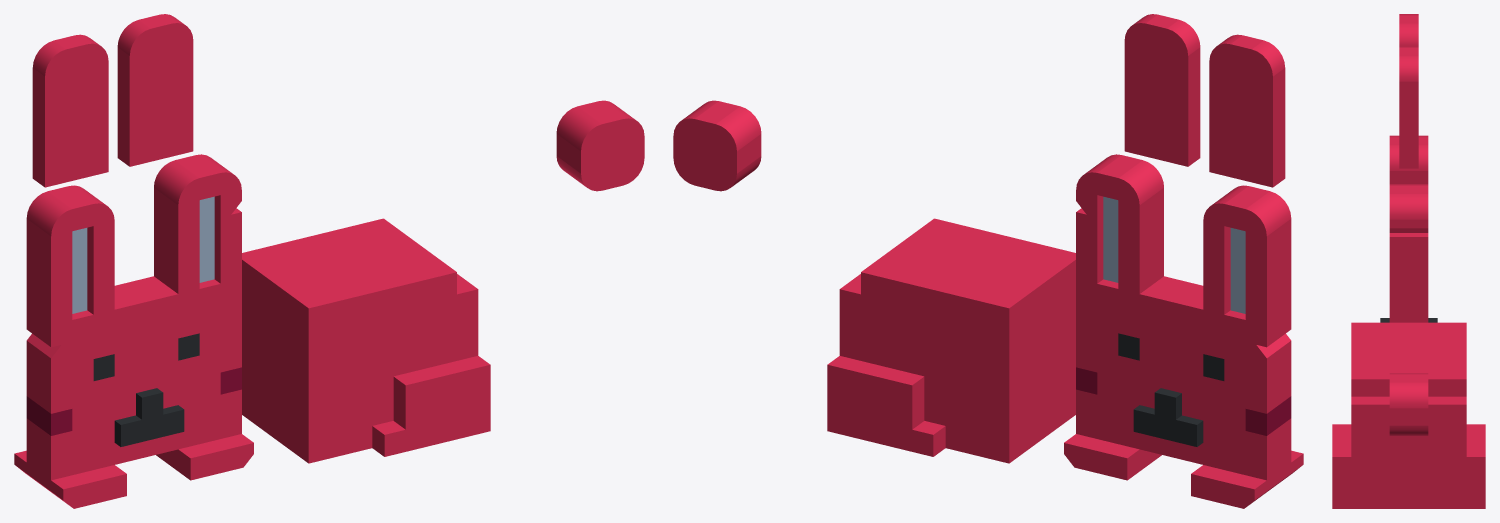
File: bunny.dae
3 views of the same model, side by side, from view 1: azimuth 30°, elevation 25°; view 2: azimuth 150°, elevation 25°; view 3: azimuth 270°, elevation 25° (orthographic). The views are drawn at different scales.
Parts seen in each view (by area): view 1: generated; view 2: generated; view 3: generated.
Boxes of the visible parts, bbox=[...] form: generated: bbox=[14, 14, 644, 508]; generated: bbox=[673, 14, 1303, 508]; generated: bbox=[1332, 14, 1485, 508].
Size of the model in its own units: 28 by 20 by 8.
1 material, 1 textured.
